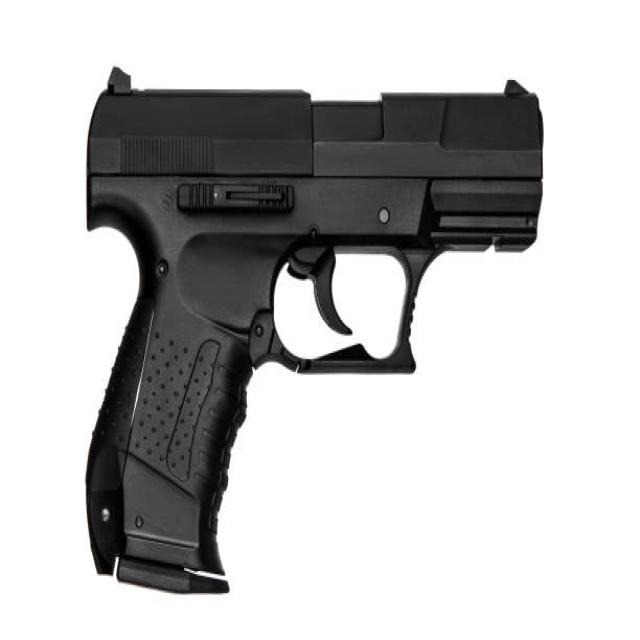pistol: (84, 56, 549, 605)
